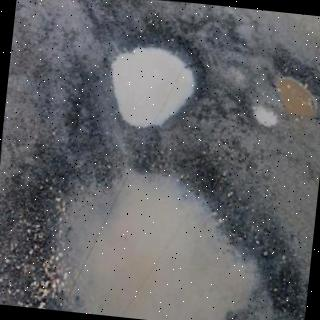pothole: (53, 163, 307, 320), (111, 35, 205, 128), (273, 42, 320, 122), (251, 103, 284, 130)
